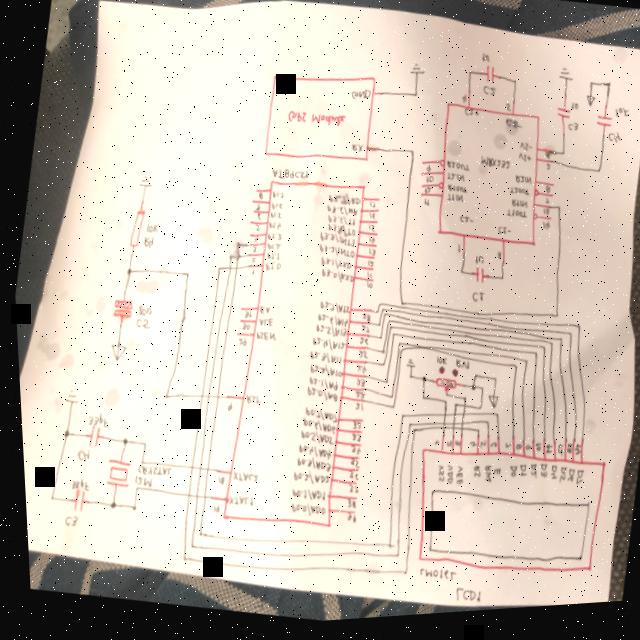capacitor: (107, 297, 132, 324), (65, 488, 82, 515), (81, 424, 97, 451), (591, 121, 612, 138), (481, 70, 496, 93), (469, 270, 483, 292), (553, 113, 569, 127)
crossover: (199, 467, 205, 477), (180, 493, 186, 502), (188, 494, 194, 503), (223, 267, 229, 275), (230, 268, 236, 276), (211, 395, 216, 404), (194, 395, 200, 402), (192, 467, 197, 475), (201, 395, 206, 403), (437, 417, 442, 425), (436, 431, 442, 437), (445, 431, 451, 437), (197, 496, 202, 503), (184, 466, 189, 473), (456, 417, 461, 424), (447, 417, 452, 424), (454, 432, 459, 437), (455, 427, 460, 432), (446, 427, 451, 432), (437, 427, 441, 432), (458, 410, 462, 414)
ground: (407, 66, 425, 83), (59, 389, 76, 406), (556, 74, 573, 90), (135, 176, 152, 191), (400, 361, 412, 374)
junction: (115, 437, 125, 449), (121, 267, 131, 279), (102, 500, 112, 512), (179, 272, 187, 282), (464, 389, 472, 399), (157, 394, 165, 403), (124, 505, 132, 514), (224, 255, 231, 265), (446, 405, 453, 415), (58, 429, 65, 439), (42, 494, 50, 502), (436, 404, 444, 412), (416, 380, 423, 389), (136, 442, 143, 451), (469, 432, 476, 441), (603, 89, 610, 97), (592, 175, 599, 183), (570, 330, 577, 338), (549, 319, 556, 327), (394, 417, 401, 425), (231, 244, 238, 252), (395, 574, 402, 582), (231, 256, 238, 264), (380, 547, 386, 556), (174, 558, 181, 565), (495, 281, 501, 289), (407, 153, 413, 161), (213, 268, 219, 276), (557, 157, 563, 165), (415, 399, 421, 407), (508, 369, 514, 377), (518, 364, 524, 372), (455, 274, 461, 281), (586, 89, 592, 96), (487, 382, 493, 389), (528, 357, 534, 364), (479, 425, 485, 432), (544, 347, 550, 354), (536, 352, 542, 359), (395, 352, 400, 360), (372, 307, 378, 313), (406, 433, 412, 439), (474, 392, 480, 398), (385, 409, 391, 415), (378, 384, 384, 390), (403, 379, 409, 385), (411, 97, 416, 104), (466, 76, 471, 83), (511, 85, 516, 92), (183, 545, 188, 552), (192, 533, 197, 540), (376, 354, 381, 361), (554, 343, 559, 350), (388, 557, 393, 564), (395, 306, 401, 311), (489, 418, 494, 424), (377, 366, 382, 372), (392, 346, 398, 351), (376, 312, 382, 317), (563, 339, 568, 345), (468, 379, 473, 385), (553, 212, 558, 218), (472, 412, 477, 417), (402, 428, 407, 433), (457, 402, 462, 407), (387, 337, 392, 342), (373, 327, 377, 333), (384, 330, 388, 335), (382, 324, 386, 329), (384, 400, 388, 404), (378, 317, 382, 321), (374, 341, 378, 345), (440, 399, 443, 403)
resistor: (122, 207, 145, 253), (426, 381, 455, 401)
source: (104, 343, 124, 364), (481, 400, 494, 417), (583, 102, 594, 116)
text: (284, 108, 346, 137), (410, 568, 453, 591), (285, 470, 326, 492), (267, 167, 307, 189), (283, 503, 322, 524), (314, 233, 353, 254), (290, 456, 327, 478), (298, 407, 334, 429), (295, 419, 332, 440), (294, 431, 330, 452), (291, 445, 327, 466), (284, 488, 321, 508), (306, 338, 343, 358), (300, 388, 335, 409), (303, 364, 339, 384), (131, 463, 168, 482), (315, 246, 352, 265), (477, 159, 510, 180), (304, 352, 339, 371), (314, 302, 348, 321), (316, 272, 350, 291), (310, 326, 344, 344), (325, 195, 359, 213), (313, 315, 345, 334), (302, 378, 334, 397), (322, 225, 354, 244), (317, 260, 350, 277), (323, 206, 356, 223), (225, 470, 253, 490), (447, 591, 475, 610), (323, 216, 353, 233), (221, 494, 248, 512), (82, 411, 106, 431), (442, 164, 468, 180), (348, 91, 371, 108), (251, 331, 274, 348), (64, 478, 85, 493), (610, 113, 629, 129), (238, 394, 257, 410), (502, 214, 525, 227), (443, 197, 463, 211), (128, 476, 148, 490), (506, 192, 528, 204), (475, 470, 488, 490), (70, 448, 86, 464), (604, 139, 621, 154), (502, 124, 519, 139), (132, 305, 149, 320), (253, 319, 271, 333), (454, 219, 472, 233), (444, 189, 465, 201), (448, 471, 459, 493), (438, 469, 449, 491), (466, 295, 482, 310), (138, 236, 153, 252), (443, 177, 463, 189), (492, 231, 509, 245), (261, 263, 278, 277), (130, 319, 148, 332), (511, 181, 530, 193), (507, 204, 526, 216), (142, 222, 157, 237), (58, 514, 73, 529), (347, 145, 363, 159), (449, 363, 466, 376), (461, 112, 478, 125), (429, 470, 441, 488), (542, 471, 554, 489), (568, 476, 580, 494), (479, 91, 495, 104), (551, 473, 561, 492), (522, 469, 533, 486), (532, 469, 543, 486), (261, 254, 277, 265), (255, 307, 268, 320), (347, 406, 360, 419), (339, 502, 352, 515), (349, 381, 362, 394), (350, 367, 363, 380), (339, 515, 351, 529), (264, 235, 279, 246), (515, 159, 530, 170), (263, 244, 278, 255), (564, 129, 577, 141), (540, 190, 552, 203), (269, 192, 281, 205), (341, 487, 354, 499), (343, 461, 355, 474), (343, 448, 356, 460), (267, 204, 281, 215), (512, 470, 522, 485), (560, 475, 570, 490), (516, 149, 531, 159), (209, 477, 221, 489), (342, 474, 354, 486), (353, 353, 365, 365), (265, 223, 278, 234), (502, 470, 512, 484), (550, 450, 559, 465), (479, 59, 490, 71), (233, 338, 244, 350), (349, 394, 361, 405), (466, 471, 476, 484), (430, 361, 443, 371), (267, 214, 280, 224), (537, 227, 548, 238), (345, 436, 356, 447), (205, 505, 215, 517), (568, 450, 576, 464), (420, 191, 431, 201), (346, 425, 357, 435), (354, 341, 365, 351), (538, 450, 547, 462), (559, 450, 568, 462), (357, 317, 367, 327), (568, 109, 578, 119), (471, 261, 481, 271), (220, 404, 229, 415), (491, 256, 499, 268), (473, 445, 481, 457), (422, 180, 431, 190), (239, 313, 249, 322), (237, 325, 247, 334), (356, 329, 366, 338), (364, 252, 373, 262), (451, 249, 459, 260), (447, 445, 455, 456), (528, 448, 536, 459), (361, 285, 370, 294), (364, 228, 373, 237), (487, 473, 495, 483), (362, 275, 370, 284), (363, 264, 371, 273), (463, 446, 472, 454), (483, 447, 492, 455), (364, 240, 372, 249), (459, 100, 466, 110), (503, 109, 510, 119), (427, 444, 435, 452), (539, 215, 547, 223), (440, 445, 447, 454), (420, 203, 427, 212), (498, 448, 507, 455), (365, 216, 372, 225), (252, 205, 258, 215), (509, 450, 517, 457), (519, 451, 527, 458), (366, 205, 373, 213), (251, 227, 258, 235), (423, 169, 429, 178), (253, 215, 259, 224), (542, 171, 549, 178), (541, 204, 547, 212), (255, 195, 260, 204), (251, 238, 256, 247), (249, 248, 254, 257), (247, 260, 253, 267), (248, 271, 252, 279)
